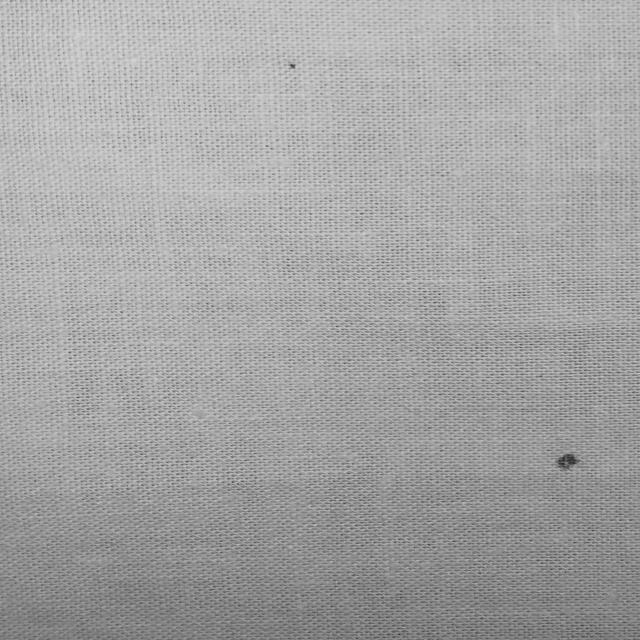Stain: (558, 455, 581, 470)
